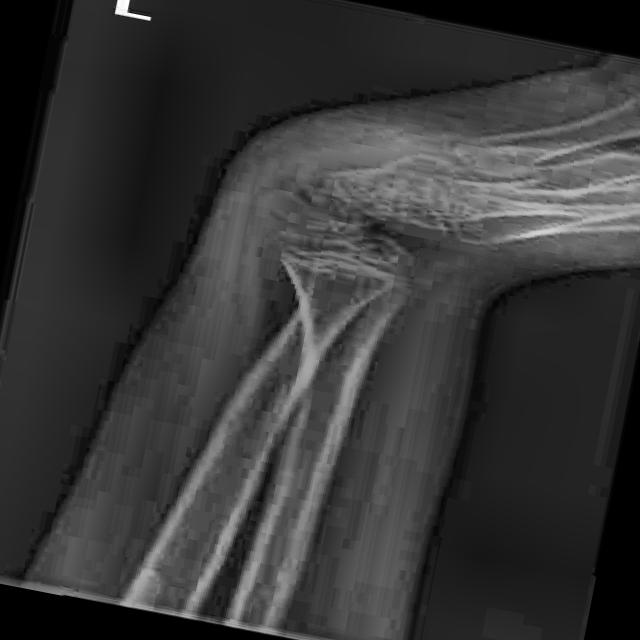wrist positive: (251, 235, 431, 297), (249, 157, 352, 207)
